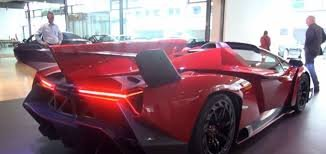mobil: (37, 33, 305, 150)
